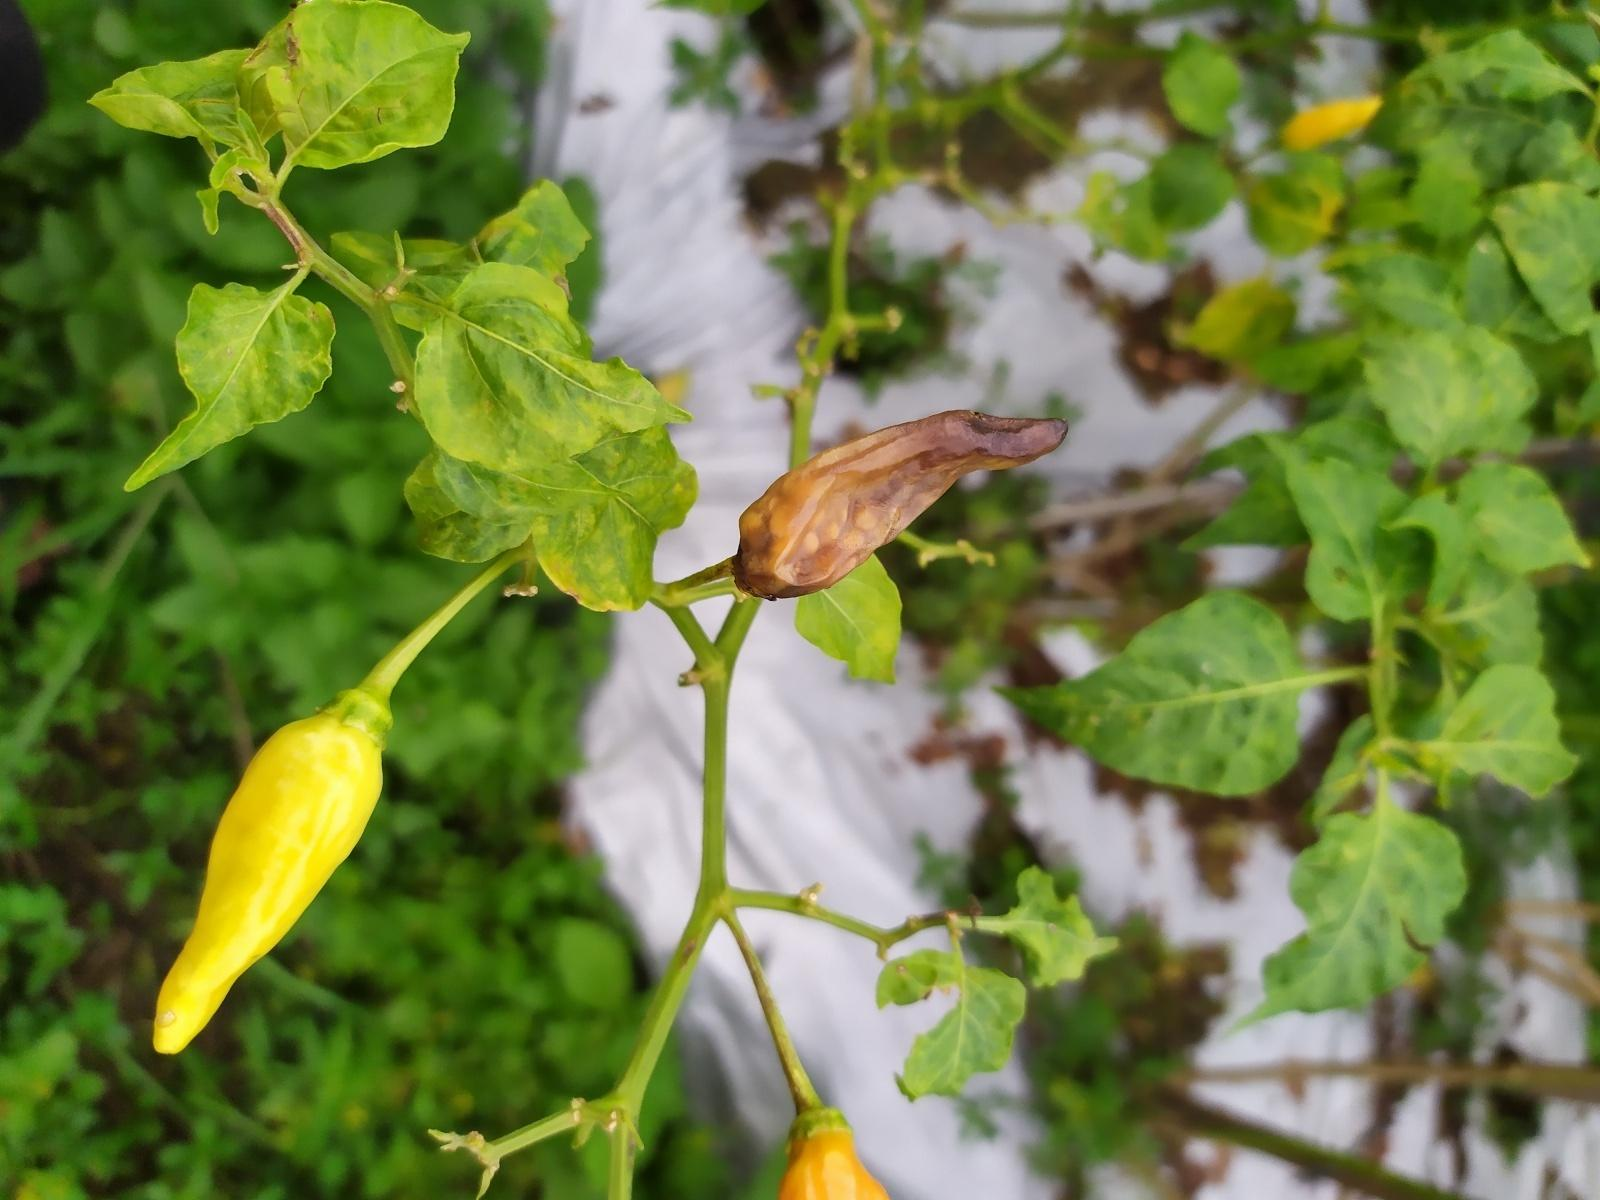cabai_normal: (149, 713, 386, 1061)
lalat_buah: (731, 411, 1070, 600)
